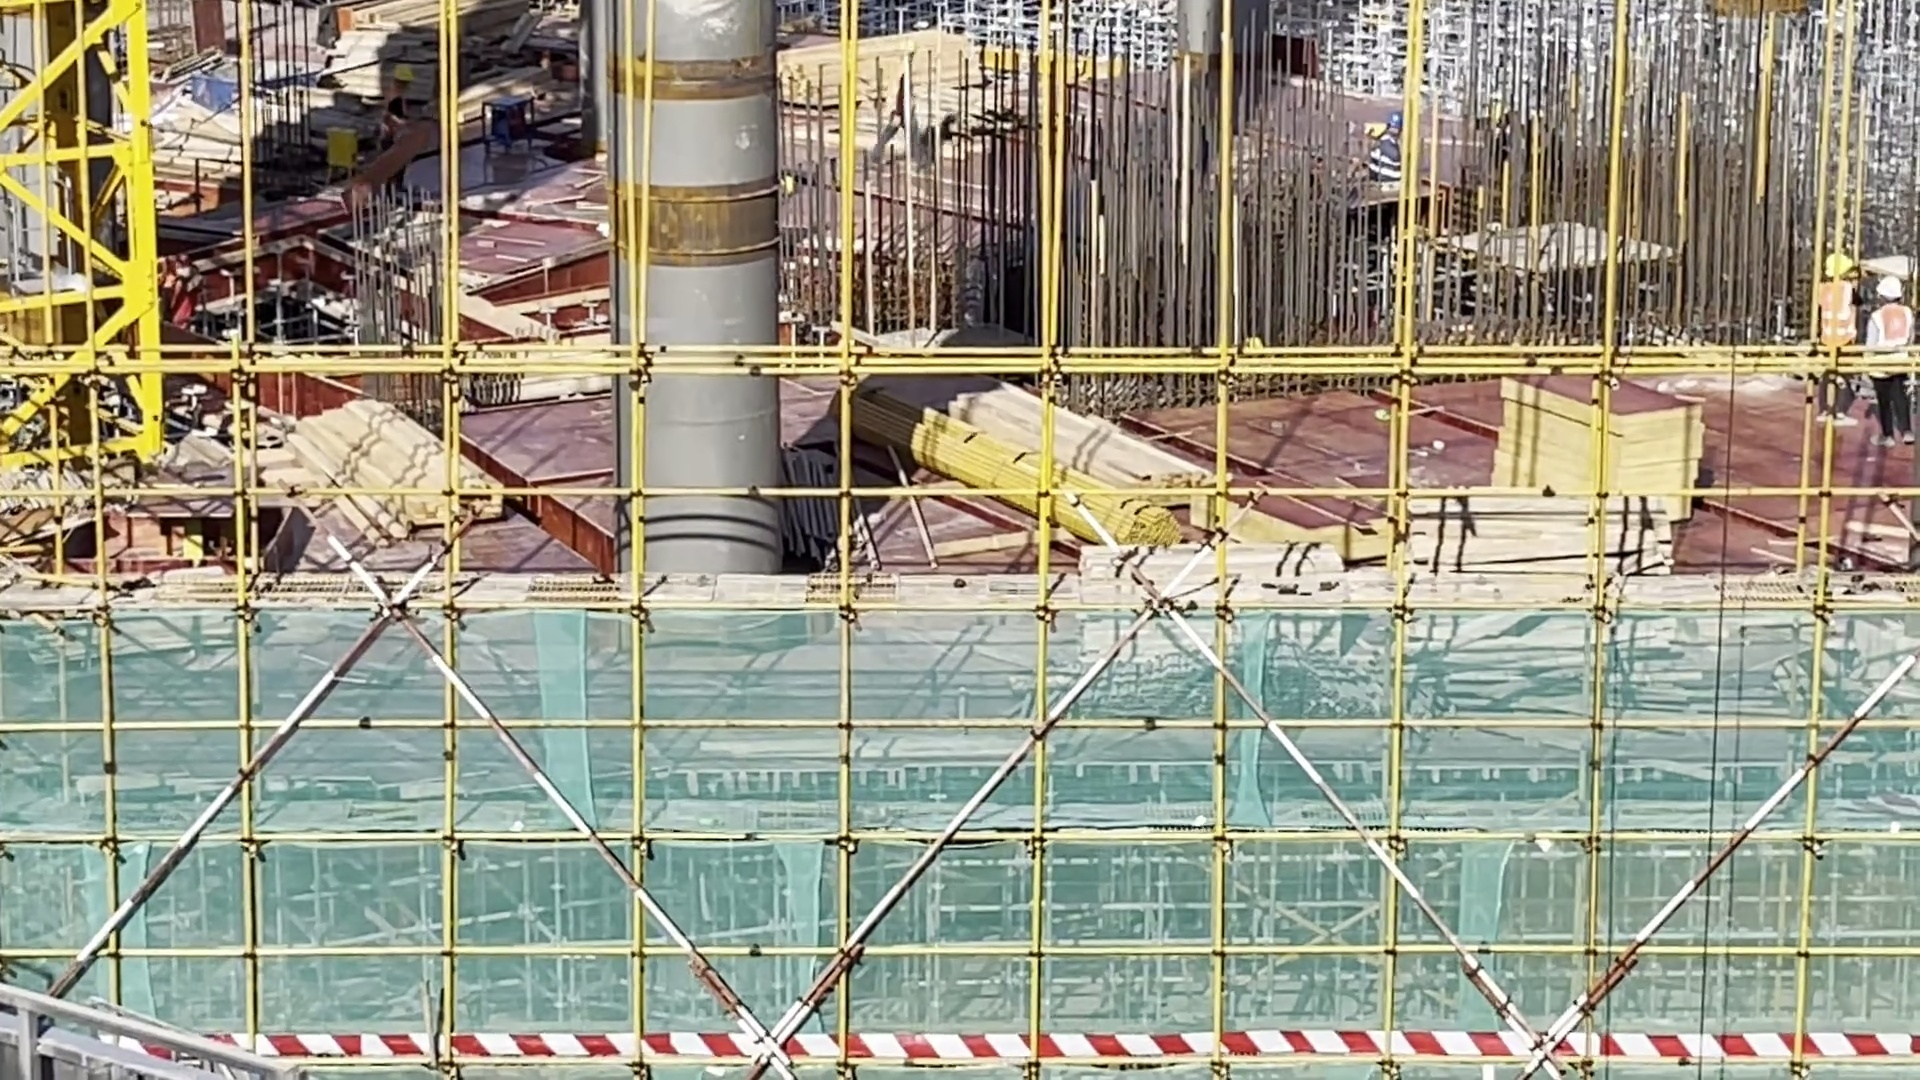board: (1483, 374, 1712, 519)
person: (1865, 276, 1920, 452), (1811, 251, 1855, 426)
vest: (1818, 280, 1854, 347), (1875, 305, 1909, 345)
wood: (919, 392, 1239, 538), (293, 395, 512, 522), (1397, 476, 1671, 570)
